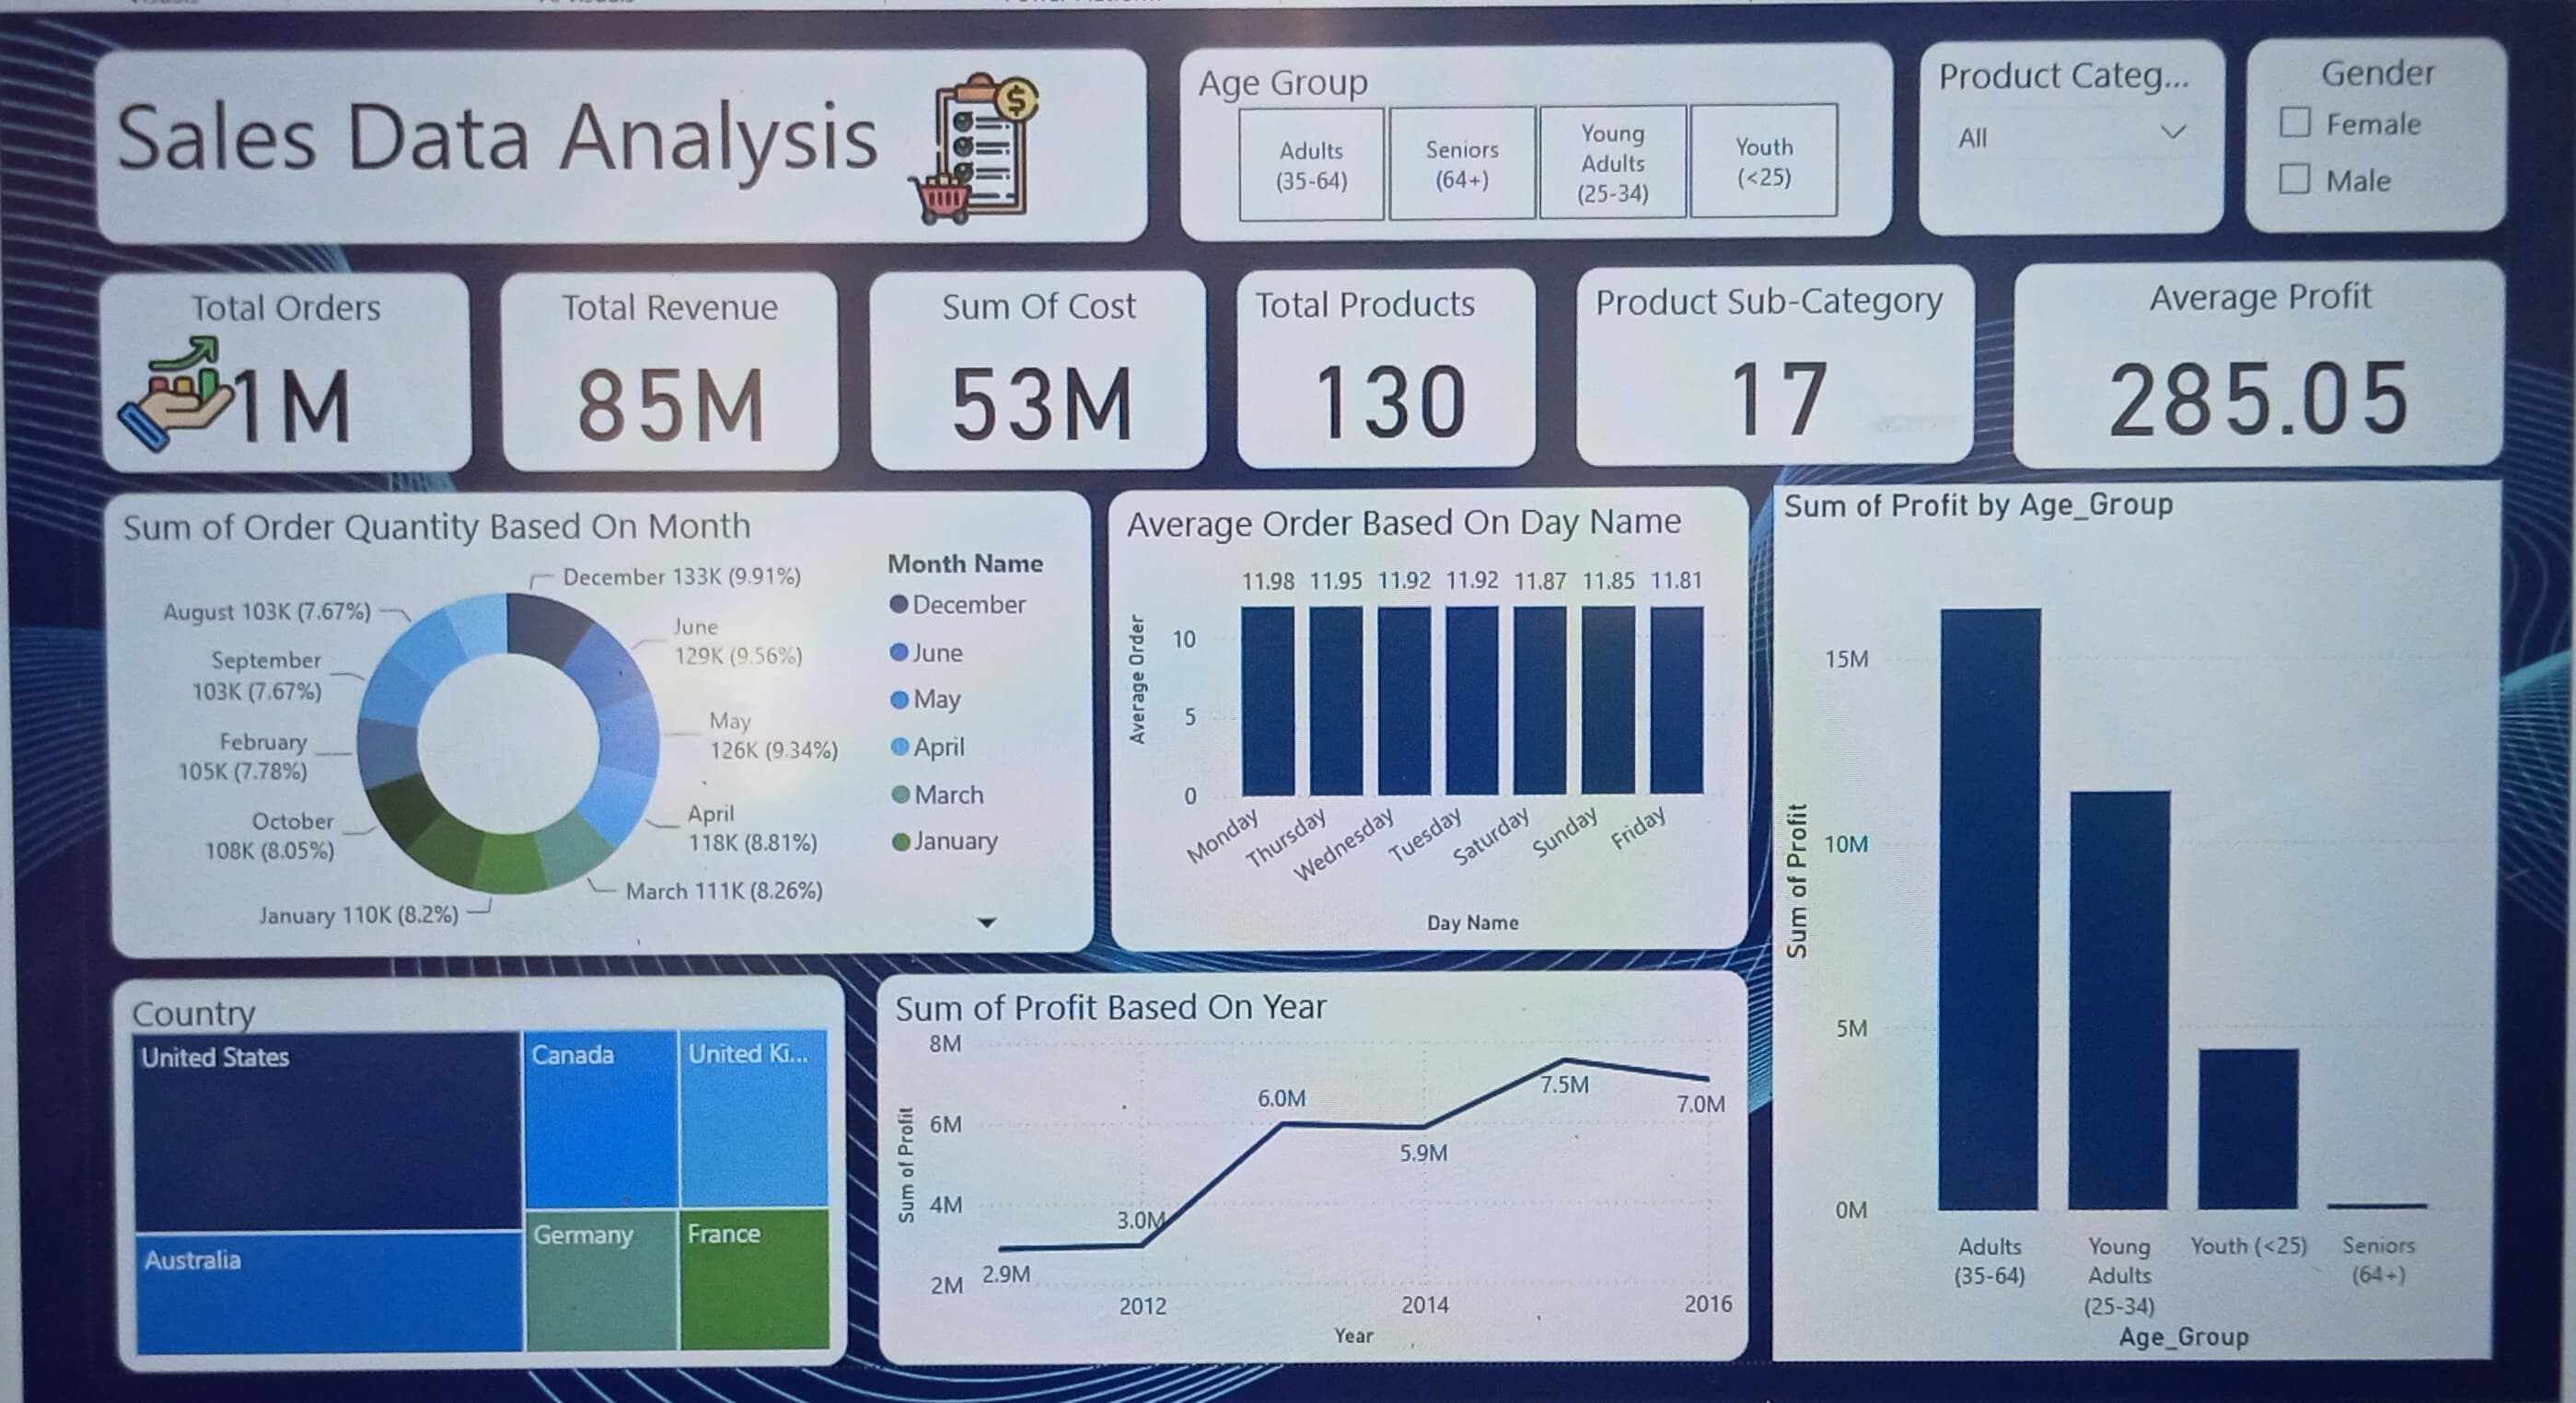

The dashboard page shown, as its layout file describes it:
{"tool":"powerbi","page":{"name":"Page 1","canvas":[1280,720],"ordinal":0},"visuals":[{"type":"card","title":"Total Revenue","fields":{"Values":["Sum(Sales.Revenue)"]},"box":[224,136.6,177.2,104.6],"z":0},{"type":"card","title":"Total Orders","fields":{"Values":["Sum(Sales.Order_Quantity)"]},"box":[13.5,136.6,194.5,104.6],"z":1000},{"type":"textbox","box":[13.5,20.9,552.6,100.9],"z":2000},{"type":"card","title":"Sum Of Cost","fields":{"Values":["Sum(Sales.Cost)"]},"box":[418.5,136.6,178.5,104.6],"z":3000},{"type":"treemap","title":"Country","fields":{"Group":["Sales.Country"],"Values":["CountNonNull(Sales.Country)"]},"box":[13.5,509.5,387.7,210.5],"z":4000},{"type":"slicer","title":"Gender","fields":{"Values":["Sales.Customer_Gender"]},"box":[1143.4,20.9,136.6,100.9],"z":5000},{"type":"slicer","title":"Age Group","fields":{"Values":["Sales.Age_Group"]},"box":[583.4,20.9,375.4,100.9],"z":6000},{"type":"donutChart","title":"Sum of Order Quantity Based On Month","fields":{"Y":["Sum(Sales.Order_Quantity)"],"Category":["Sales.Month"]},"box":[13.5,252.3,521.8,246.2],"z":7000},{"type":"slicer","title":"Product Category","fields":{"Values":["Sales.Product_Category"]},"box":[972.3,20.9,160,100.9],"z":8000},{"type":"card","title":"Total Products","fields":{"Values":["Count(Sales.Product)"]},"box":[612.9,136.6,158.8,104.6],"z":9000},{"type":"card","title":"Product Sub-Category","fields":{"Values":["Count(Sales.Sub_Category)"]},"box":[792.6,136.6,209.2,104.6],"z":10000},{"type":"card","title":"Average Profit","fields":{"Values":["Avg(Sales.Profit)"]},"box":[1022.8,136.6,257.2,108.3],"z":11000},{"type":"lineChart","title":"Sum of Profit Based On Year","fields":{"Y":["Sum(Sales.Profit)"],"Category":["Sales.Year"]},"box":[418.5,509.5,465.2,210.5],"z":12000},{"type":"clusteredColumnChart","fields":{"Category":["Sales.Age_Group"],"Y":["Sum(Sales.Profit)"]},"box":[897.2,252.3,382.8,467.7],"z":13000},{"type":"clusteredColumnChart","title":"Average Order Based On Day Name","fields":{"Category":["Sales.Day Name"],"Y":["Avg(Sales.Order_Quantity)"]},"box":[544,252.3,339.7,246.2],"z":14000},{"type":"image","box":[13.3,156.7,78.3,88.3],"z":15000},{"type":"image","box":[430,21.7,90,100],"z":16000}]}

Visuals, with their boxes in screenshot pixels (x1, y1, x2, y2):
"Total Revenue" card: pyautogui.locateOnScreen(516, 266, 843, 460)
"Total Orders" card: pyautogui.locateOnScreen(125, 266, 486, 460)
textbox: pyautogui.locateOnScreen(125, 52, 1149, 239)
"Sum Of Cost" card: pyautogui.locateOnScreen(876, 266, 1206, 460)
"Country" treemap: pyautogui.locateOnScreen(125, 957, 843, 1347)
"Gender" slicer: pyautogui.locateOnScreen(2219, 52, 2472, 239)
"Age Group" slicer: pyautogui.locateOnScreen(1181, 52, 1876, 239)
"Sum of Order Quantity Based On Month" donutChart: pyautogui.locateOnScreen(125, 481, 1092, 937)
"Product Category" slicer: pyautogui.locateOnScreen(1901, 52, 2198, 239)
"Total Products" card: pyautogui.locateOnScreen(1236, 266, 1530, 460)
"Product Sub-Category" card: pyautogui.locateOnScreen(1569, 266, 1956, 460)
"Average Profit" card: pyautogui.locateOnScreen(1995, 266, 2472, 467)
"Sum of Profit Based On Year" lineChart: pyautogui.locateOnScreen(876, 957, 1737, 1347)
clusteredColumnChart - Sales.Age_Group x Sum(Sales.Profit): pyautogui.locateOnScreen(1762, 481, 2472, 1347)
"Average Order Based On Day Name" clusteredColumnChart: pyautogui.locateOnScreen(1108, 481, 1737, 937)
image: pyautogui.locateOnScreen(125, 304, 271, 467)
image: pyautogui.locateOnScreen(897, 53, 1063, 238)
